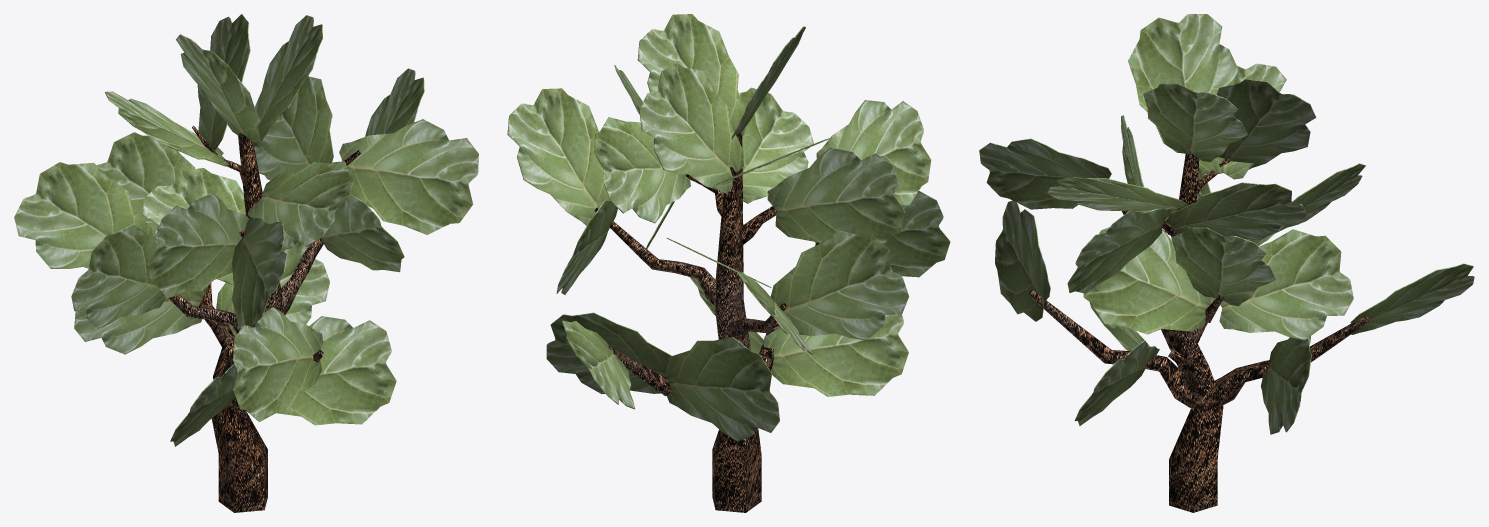
Rendered from ficus.fbx.
3 renders of one model, left to right at view 1: azimuth 30°, elevation 25°; view 2: azimuth 150°, elevation 25°; view 3: azimuth 270°, elevation 25°, orthographic. The views are drawn at different scales.
Visible parts, largest first — view 1: ficusLeaves, ficusTrunk; view 2: ficusLeaves, ficusTrunk; view 3: ficusLeaves, ficusTrunk.
Part boxes in pixels (x1,y1,x2,y2): ficusLeaves: (14, 14, 478, 446); ficusTrunk: (168, 125, 360, 512); ficusLeaves: (507, 14, 950, 441); ficusTrunk: (594, 133, 819, 512); ficusLeaves: (979, 14, 1474, 434); ficusTrunk: (1028, 154, 1368, 512).
Bounding box in the file's own units: 68.71 × 85.08 × 82.66.
2 materials, 2 textured.
